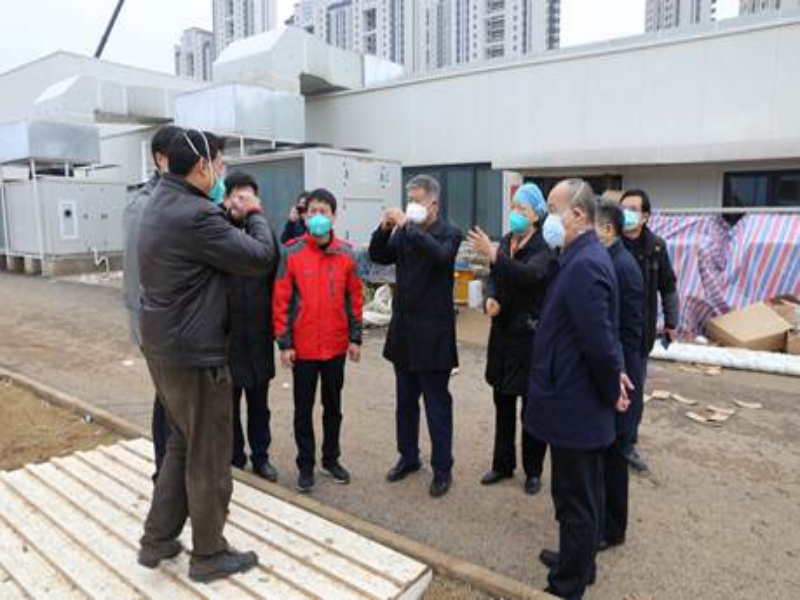ManaoArotava: (543, 176, 590, 260), (299, 182, 345, 252), (505, 177, 549, 248), (615, 187, 665, 249), (396, 171, 445, 234)
